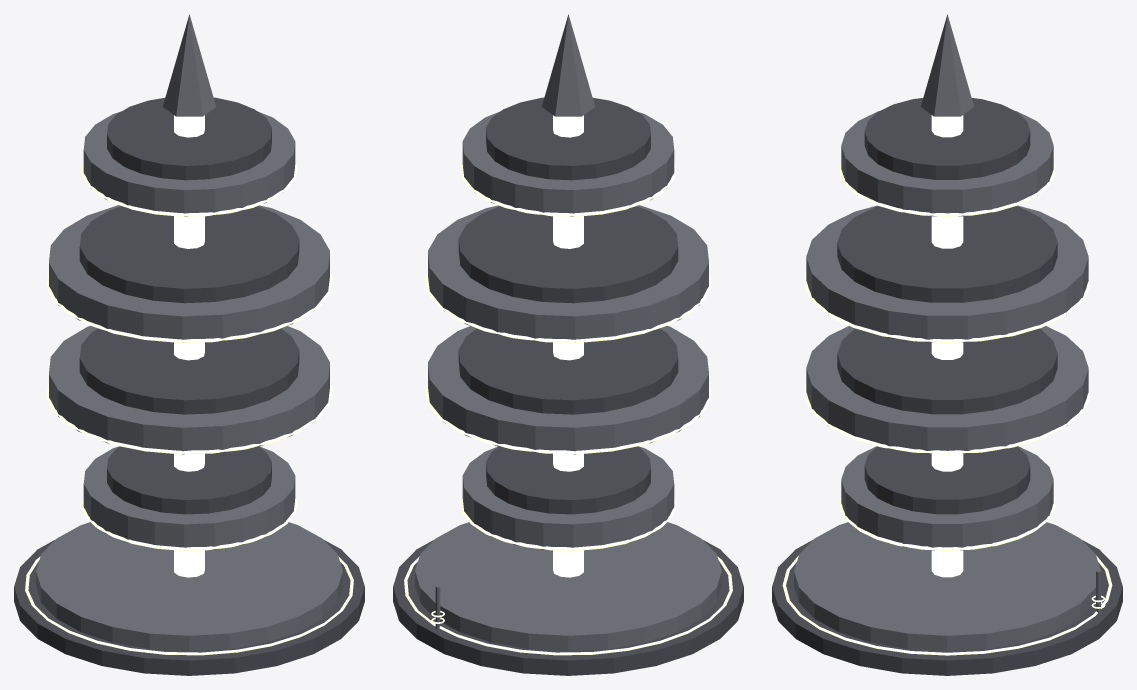
File: zone_high_5_t2.glb
3 views of the same model, side by side, from view 1: azimuth 30°, elevation 25°; view 2: azimuth 150°, elevation 25°; view 3: azimuth 270°, elevation 25° (orthographic).
Parts seen in each view (by area): view 1: zone_high_5_t2; view 2: zone_high_5_t2; view 3: zone_high_5_t2.
Part boxes in pixels (<box>): zone_high_5_t2: <box>14,14,364,675</box>; zone_high_5_t2: <box>393,14,743,675</box>; zone_high_5_t2: <box>772,14,1122,675</box>.
Size of the model in its own units: 28.8 by 53.26 by 28.8.
